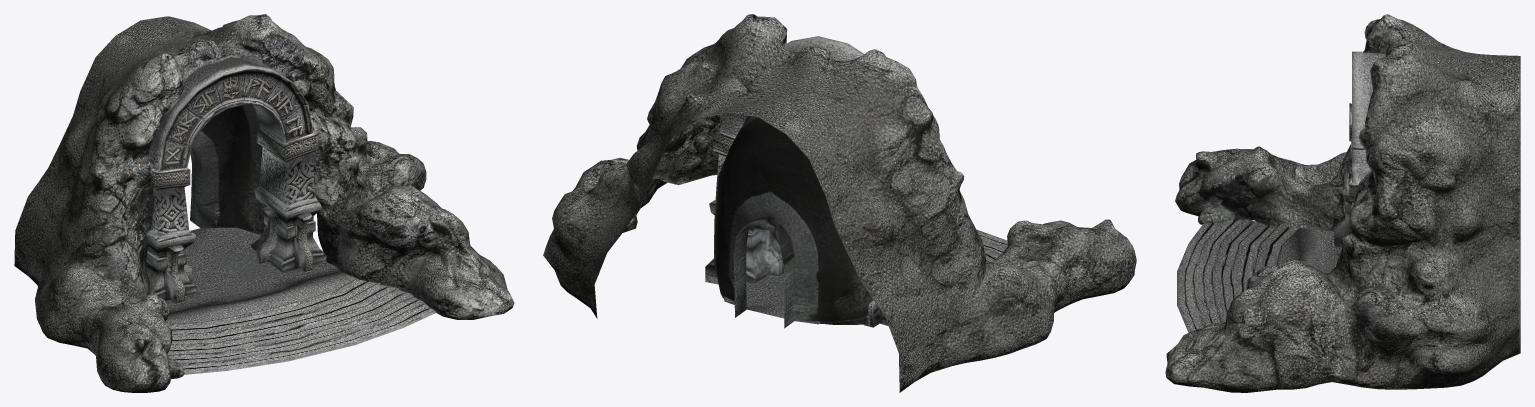
The model's file is KorribanCaveEntrance.obj.
The picture shows the model from 3 angles, left to right: view 1: azimuth 30°, elevation 25°; view 2: azimuth 150°, elevation 25°; view 3: azimuth 270°, elevation 25°; orthographic projection. The views are drawn at different scales.
Parts seen in each view (by area): view 1: tripo_node_14ca3826-2eb9-48f1-9409-78bd29c64a81; view 2: tripo_node_14ca3826-2eb9-48f1-9409-78bd29c64a81; view 3: tripo_node_14ca3826-2eb9-48f1-9409-78bd29c64a81.
Boxes of the visible parts, x1,y1,x2,y2 form: tripo_node_14ca3826-2eb9-48f1-9409-78bd29c64a81: (14,14,514,392); tripo_node_14ca3826-2eb9-48f1-9409-78bd29c64a81: (543,14,1136,392); tripo_node_14ca3826-2eb9-48f1-9409-78bd29c64a81: (1165,14,1520,392).
Size of the model in its own units: 0.998 by 0.5762 by 0.7246.
1 material, 1 textured.
